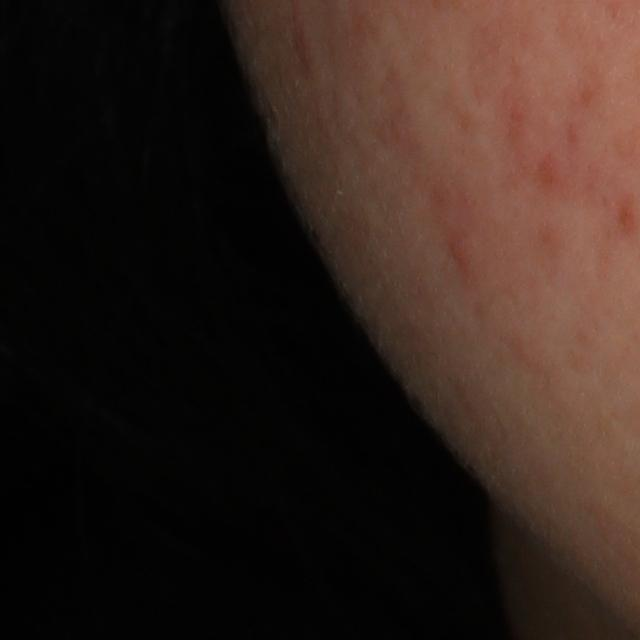papule: (451, 236, 468, 265)
